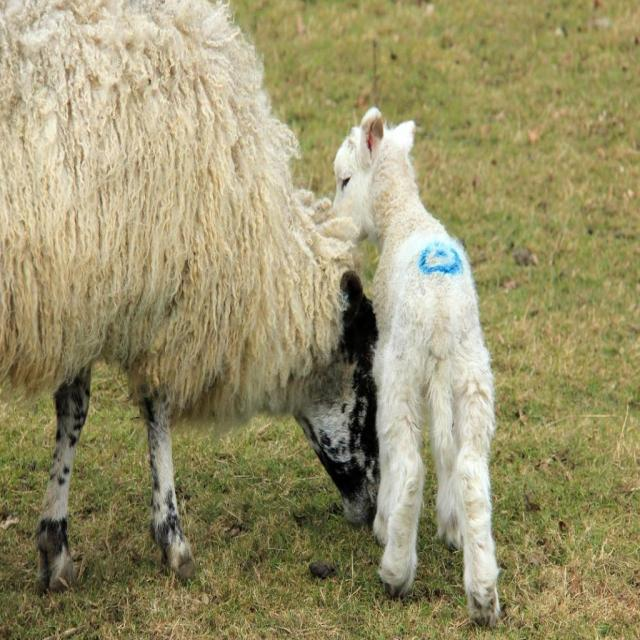Sheep: (0, 0, 381, 594), (330, 108, 502, 629)
